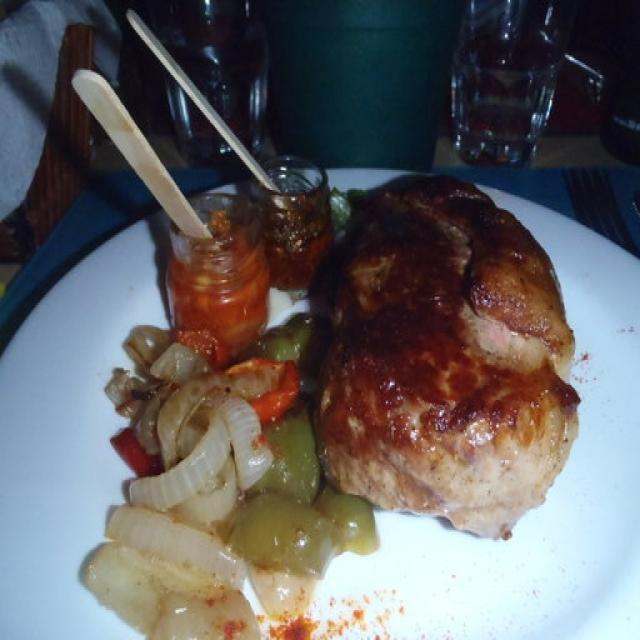Steak: (329, 160, 611, 542)
